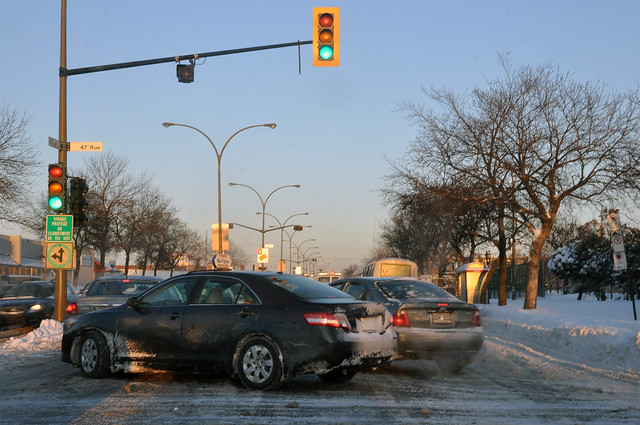bus: (354, 258, 418, 278)
car: (61, 272, 393, 389), (328, 277, 485, 375), (65, 276, 183, 332), (1, 281, 81, 328)
